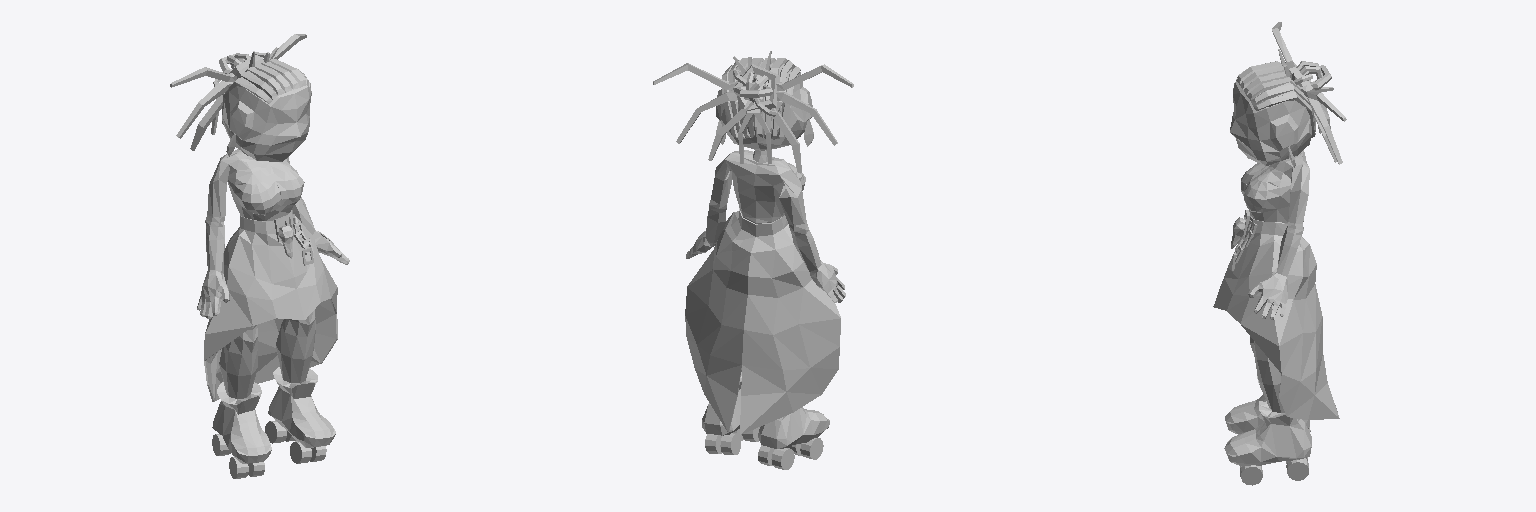
The model's file is bruja_000071.obj.
3 renders of one model, left to right at view 1: azimuth 30°, elevation 25°; view 2: azimuth 150°, elevation 25°; view 3: azimuth 270°, elevation 25°, orthographic.
Parts seen in each view (by area): view 1: Bruja_Plane.001; view 2: Bruja_Plane.001; view 3: Bruja_Plane.001.
Boxes of the visible parts, box(x1,y1,x2,y2) form: Bruja_Plane.001: box(170, 34, 349, 478); Bruja_Plane.001: box(653, 51, 853, 469); Bruja_Plane.001: box(1213, 22, 1346, 485).
Bounding box in the file's own units: 7.17 × 16.52 × 4.86.